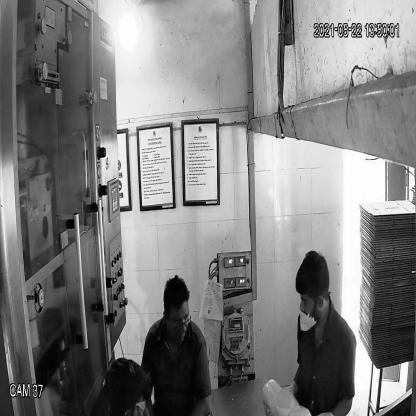goggles: (164, 309, 193, 331)
